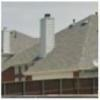chimneys: (40, 12, 56, 59), (2, 27, 11, 55)
